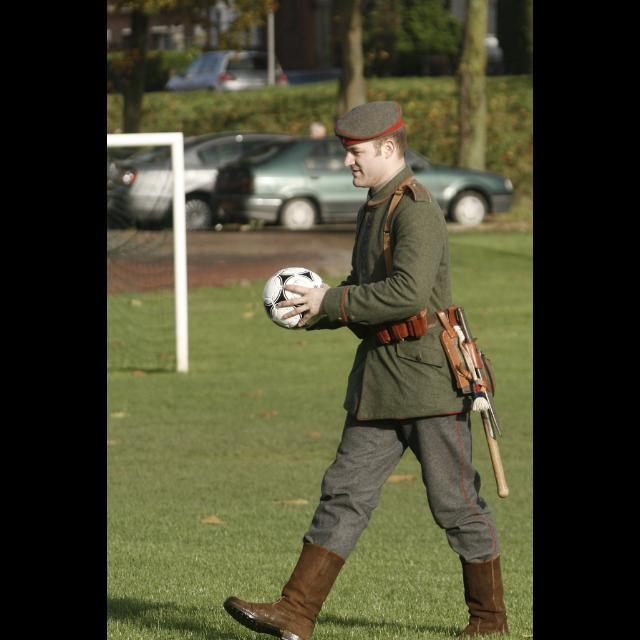Football: (261, 264, 321, 330)
